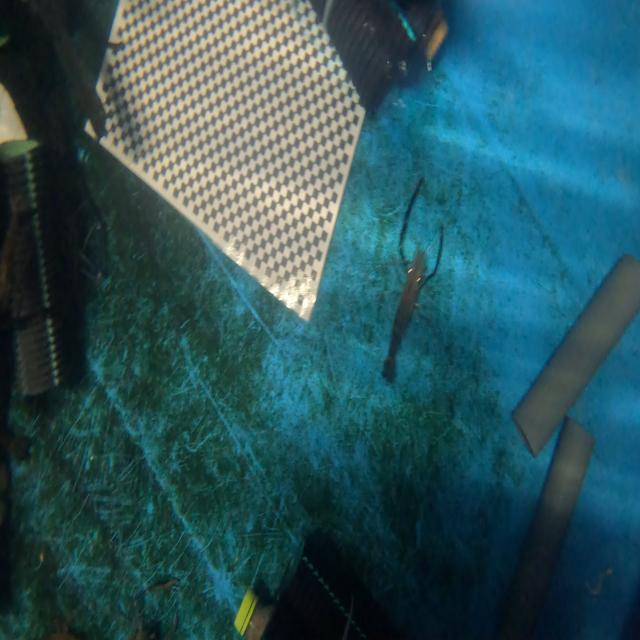prawn: (383, 251, 439, 380)
